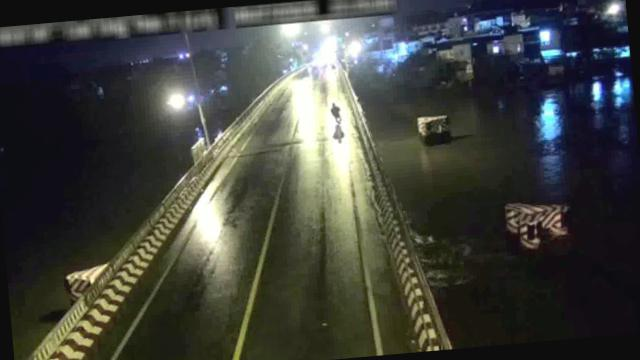Bike: (330, 99, 344, 125)
